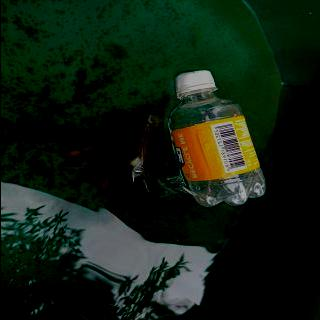bottle: (165, 70, 268, 206)
